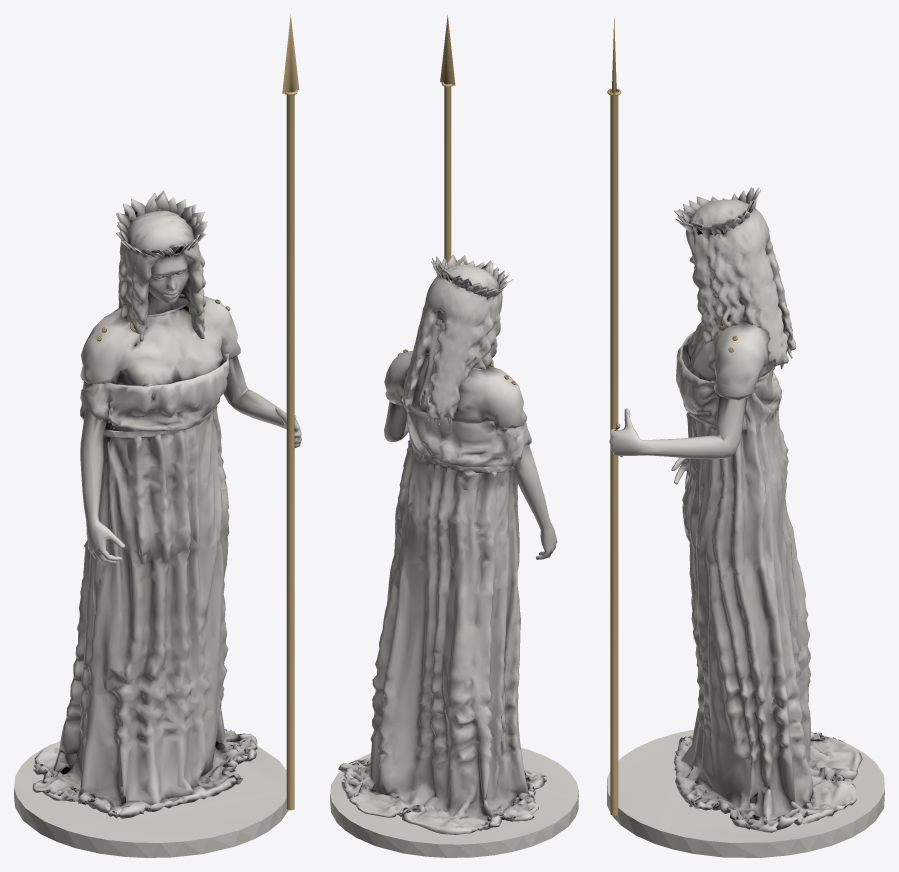
File: atenea-movil.glb
3 views of the same model, side by side, from view 1: azimuth 30°, elevation 25°; view 2: azimuth 150°, elevation 25°; view 3: azimuth 270°, elevation 25° (orthographic). The views are drawn at different scales.
Parts seen in each view (by area): view 1: marble, gold; view 2: marble, gold; view 3: marble, gold.
Part boxes in pixels (x1=…): marble: x1=14, y1=190, x2=301, y2=857; gold: x1=96, y1=14, x2=299, y2=810; marble: x1=330, y1=254, x2=578, y2=857; gold: x1=397, y1=15, x2=516, y2=384; marble: x1=607, y1=187, x2=884, y2=857; gold: x1=607, y1=18, x2=737, y2=815.
Size of the model in its own units: 0.8374 by 2.73 by 0.8374.
